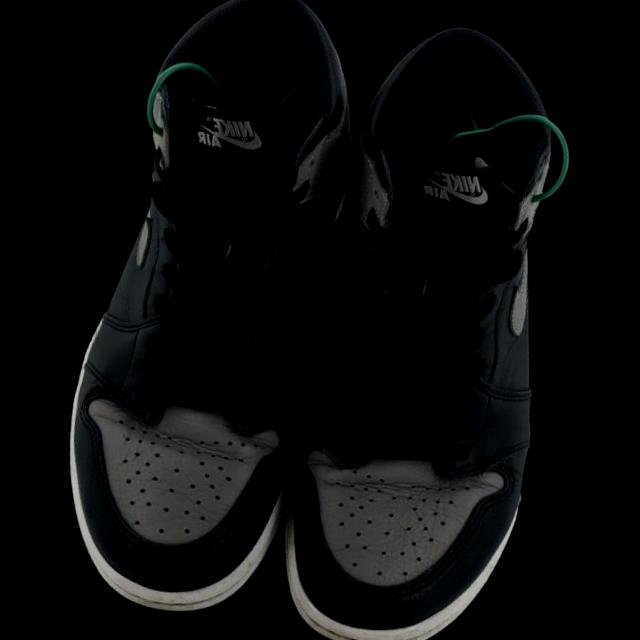nike_original_jordan: (253, 3, 600, 640), (30, 0, 377, 635)
